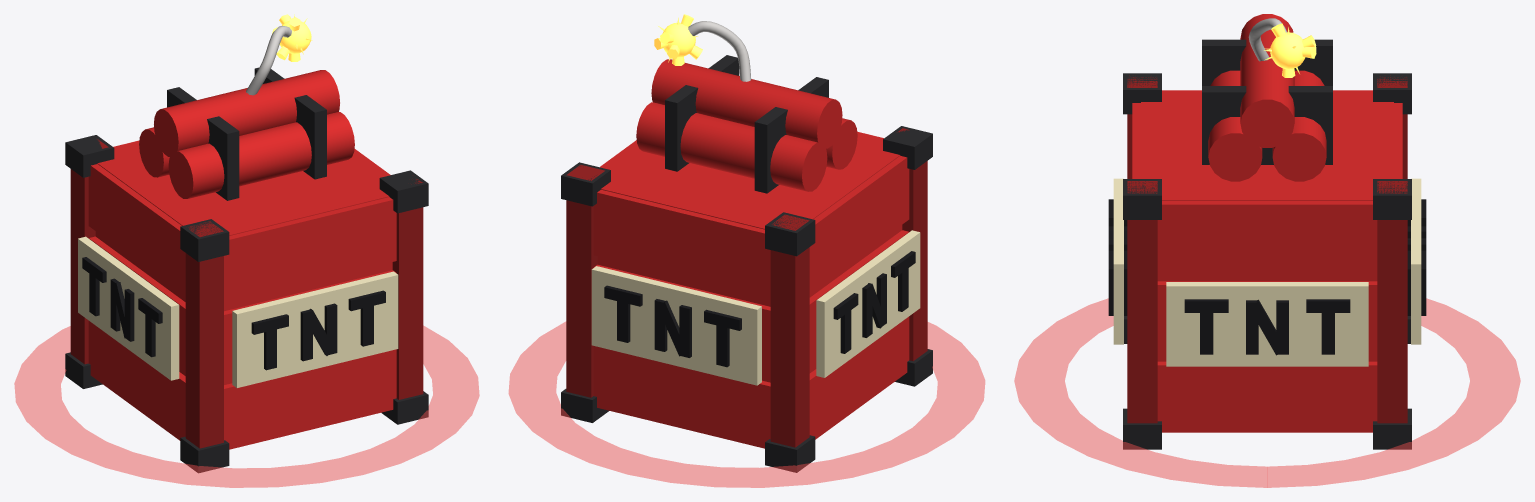
File: tntTrap.glb
3 views of the same model, side by side, from view 1: azimuth 30°, elevation 25°; view 2: azimuth 150°, elevation 25°; view 3: azimuth 270°, elevation 25° (orthographic). The views are drawn at different scales.
Parts seen in each view (by area): view 1: TntTrap; view 2: TntTrap; view 3: TntTrap.
Part boxes in pixels (x1,y1,x2,y2): TntTrap: (14, 14, 479, 487); TntTrap: (508, 14, 985, 487); TntTrap: (1014, 14, 1520, 487).
Size of what is drawn, in the model's own units: 0.6 by 0.5424 by 0.6.
